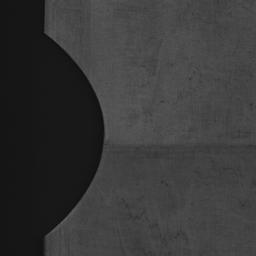Crescent gap: (46, 35, 104, 235)
